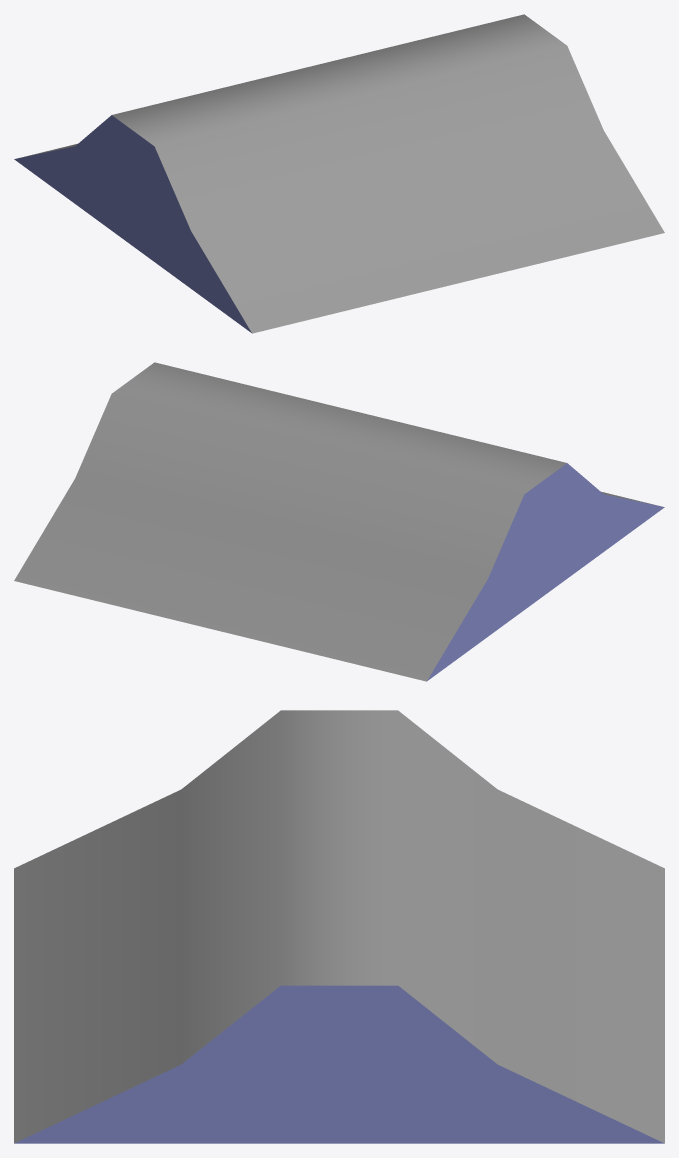
Rendered from TriangleRoof.FBX.
The picture shows the model from 3 angles, top to bottom: view 1: azimuth 30°, elevation 25°; view 2: azimuth 150°, elevation 25°; view 3: azimuth 270°, elevation 25°; orthographic projection. The views are drawn at different scales.
Visible parts, largest first — view 1: TriangleRoof; view 2: TriangleRoof; view 3: TriangleRoof.
Boxes of the visible parts, box(x1,y1,x2,y2) form: TriangleRoof: box(14, 14, 664, 333); TriangleRoof: box(14, 362, 664, 681); TriangleRoof: box(14, 710, 664, 1143).
Bounding box in the file's own units: 300 × 80.38 × 300.
